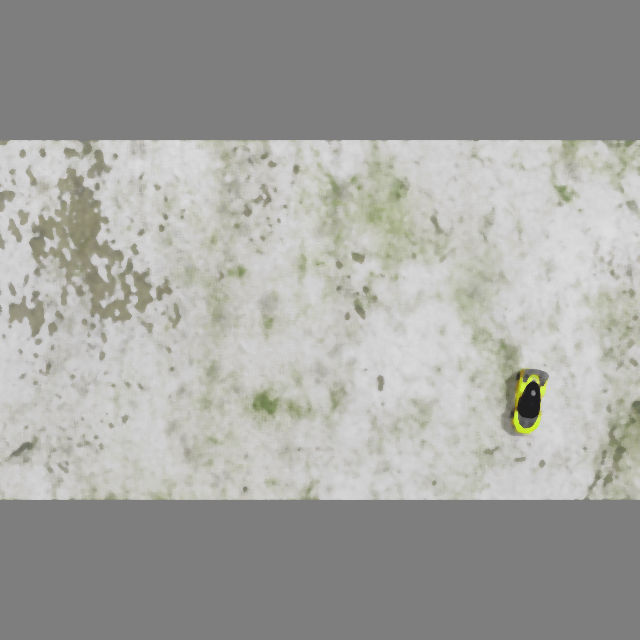car: (506, 365, 552, 438)
